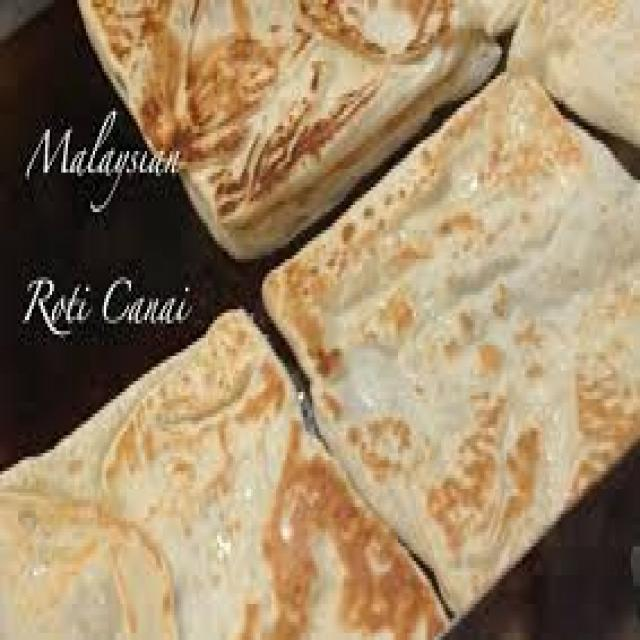Paratha: (269, 69, 640, 576), (10, 297, 429, 640), (71, 8, 491, 231)
